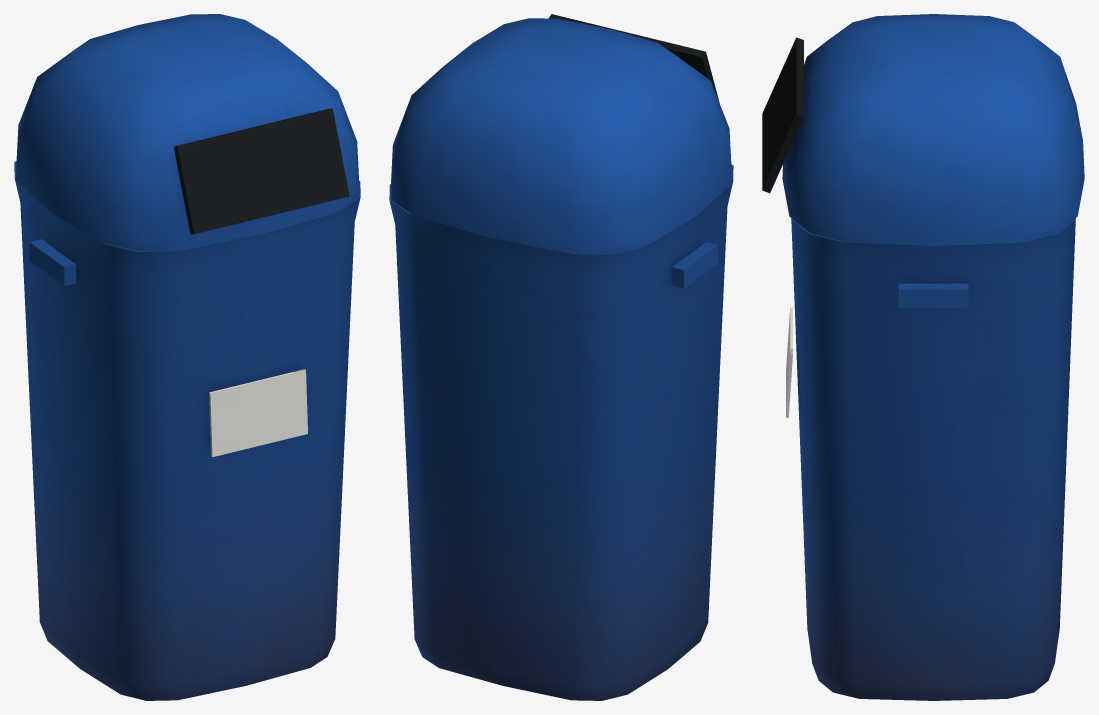
Rendered from trash_bin.glb.
3 views of the same model, side by side, from view 1: azimuth 30°, elevation 25°; view 2: azimuth 150°, elevation 25°; view 3: azimuth 270°, elevation 25° (orthographic).
Visible parts, largest first — view 1: trash_bin; view 2: trash_bin; view 3: trash_bin.
Boxes of the visible parts, left/top/right/bottom form: trash_bin: left=14, top=14, right=360, bottom=700; trash_bin: left=389, top=14, right=733, bottom=700; trash_bin: left=762, top=14, right=1084, bottom=700.
Size of the model in its own units: 0.47 by 0.95 by 0.461.
Materials: 1 (1 with a texture image).
